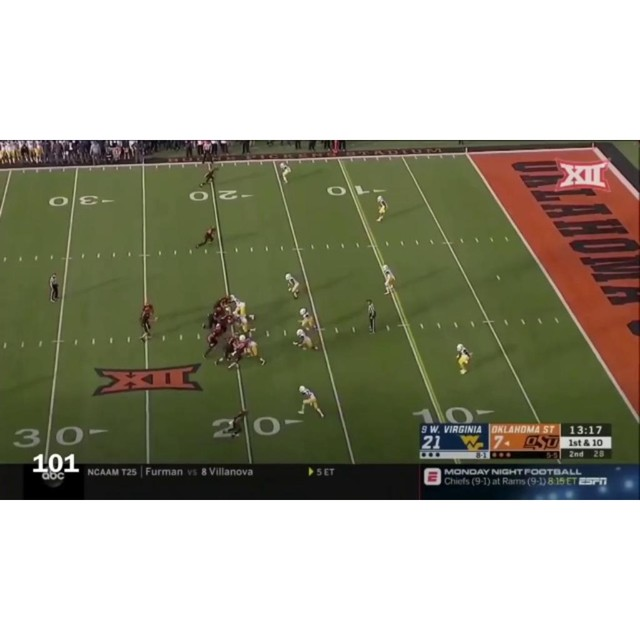american-football-player: (294, 308, 319, 351), (298, 385, 325, 418), (215, 334, 239, 368), (242, 334, 266, 367), (202, 324, 224, 360), (202, 301, 226, 331), (139, 302, 156, 342), (455, 344, 472, 375), (382, 263, 396, 296), (197, 226, 216, 250), (285, 273, 299, 300), (376, 195, 387, 222), (280, 161, 291, 185)
referee: (366, 299, 377, 335), (49, 272, 59, 303)
